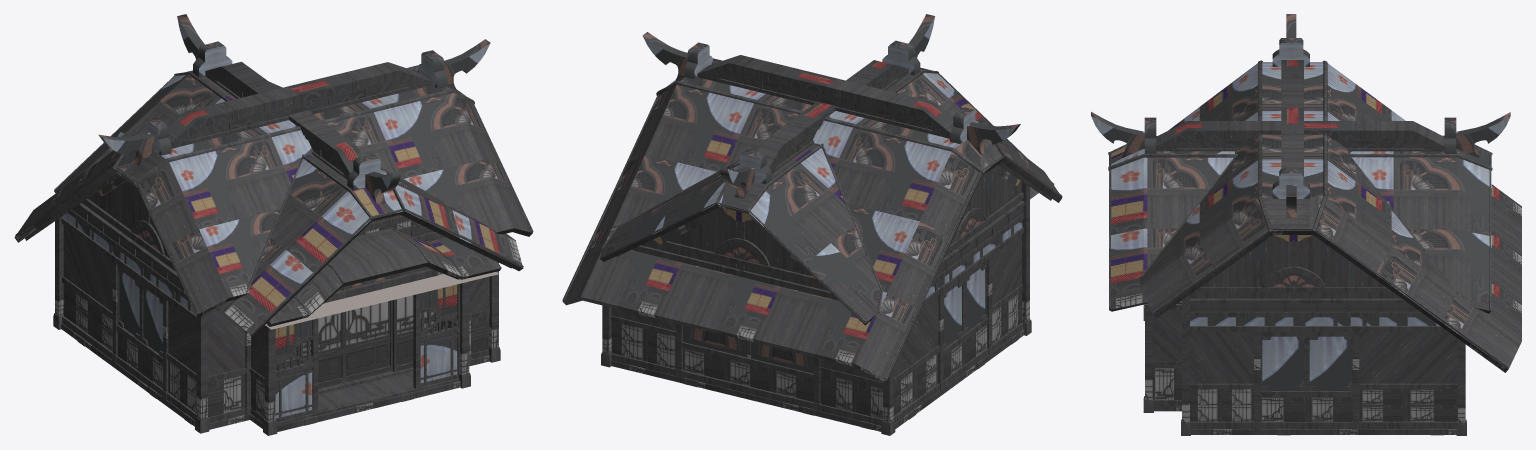
File: Homeworld_Exterior_Dq_Build_House_01_Lod0.fbx
3 renders of one model, left to right at view 1: azimuth 30°, elevation 25°; view 2: azimuth 150°, elevation 25°; view 3: azimuth 270°, elevation 25°, orthographic. The views are drawn at different scales.
Parts seen in each view (by area): view 1: Homeworld_Exterior_Dq_Build_House_01_Lod0, Homeworld_Exterior_Dq_Build_House_01_Ocl; view 2: Homeworld_Exterior_Dq_Build_House_01_Lod0; view 3: Homeworld_Exterior_Dq_Build_House_01_Lod0.
Part boxes in pixels (box(x1,y1,x2,y2)): Homeworld_Exterior_Dq_Build_House_01_Lod0: box(14, 14, 533, 435); Homeworld_Exterior_Dq_Build_House_01_Ocl: box(265, 271, 499, 329); Homeworld_Exterior_Dq_Build_House_01_Lod0: box(562, 14, 1062, 435); Homeworld_Exterior_Dq_Build_House_01_Lod0: box(1091, 14, 1521, 435).
Size of what is drawn, in the model's own units: 14.8 by 9.76 by 14.65.
